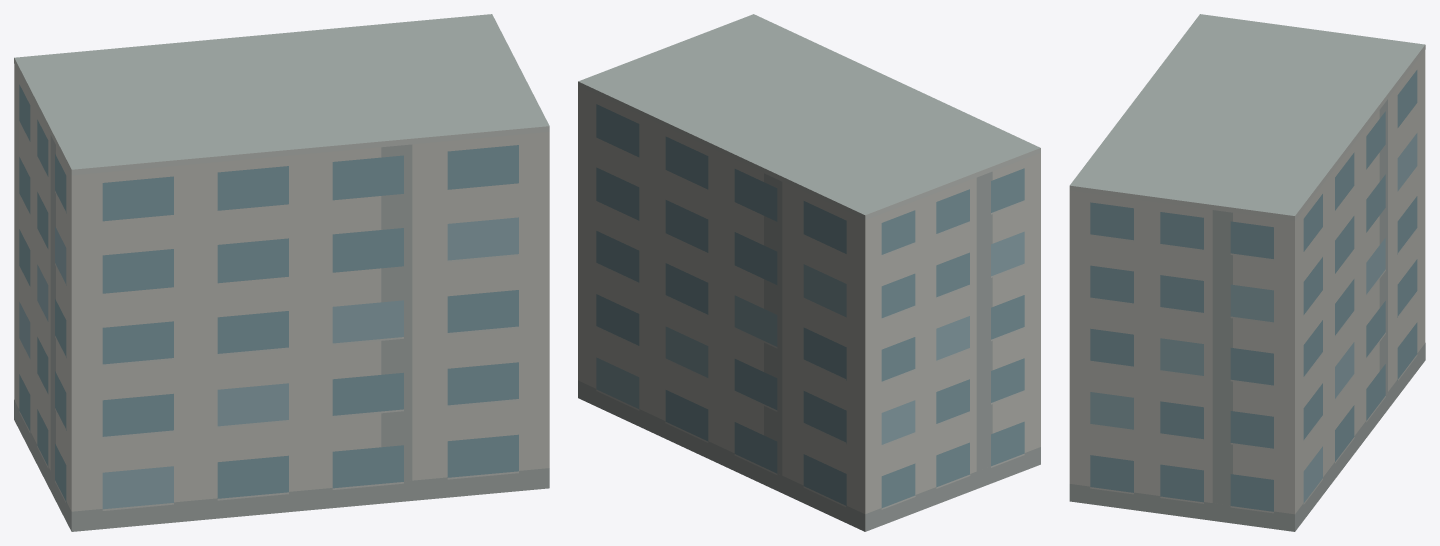
File: survey-upis-32798779.glb
The picture shows the model from 3 angles, left to right: view 1: azimuth 30°, elevation 25°; view 2: azimuth 150°, elevation 25°; view 3: azimuth 270°, elevation 25°; orthographic projection. The views are drawn at different scales.
Visible parts, largest first — view 1: survey-upis-32798779.tmp; view 2: survey-upis-32798779.tmp; view 3: survey-upis-32798779.tmp.
Boxes of the visible parts, x1,y1,x2,y2 form: survey-upis-32798779.tmp: [14, 14, 549, 531]; survey-upis-32798779.tmp: [578, 14, 1040, 531]; survey-upis-32798779.tmp: [1069, 14, 1425, 531].
Bounding box in the file's own units: 20.94 × 15.25 × 15.58.
